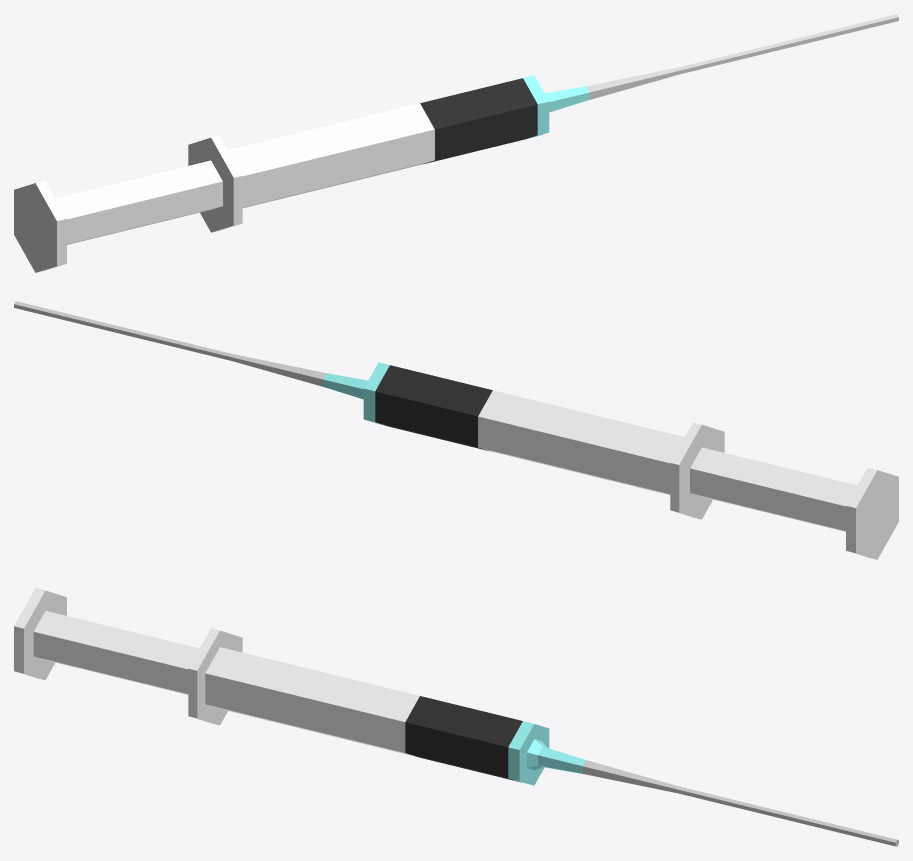
The model's file is NeedlefishDrip.glb.
The picture shows the model from 3 angles, top to bottom: view 1: azimuth 30°, elevation 25°; view 2: azimuth 150°, elevation 25°; view 3: azimuth 330°, elevation 25°; orthographic projection.
Visible parts, largest first — view 1: NeedlefishDrip; view 2: NeedlefishDrip; view 3: NeedlefishDrip.
Part boxes in pixels (<box>): NeedlefishDrip: <box>14,14,898,272</box>; NeedlefishDrip: <box>14,301,898,559</box>; NeedlefishDrip: <box>14,588,898,846</box>.
Bounding box in the file's own units: 0.4378 × 0.0461 × 0.04.
1 material, 1 textured.
